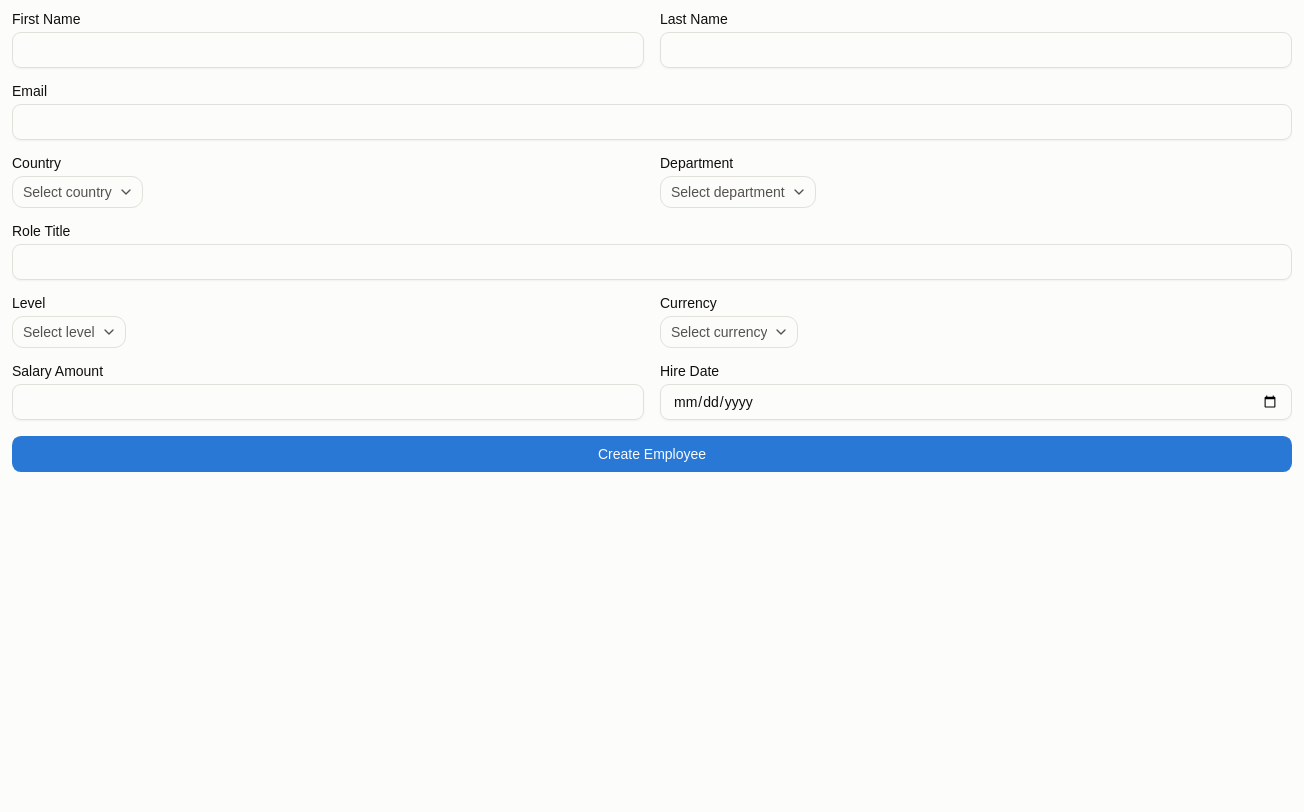
CreateEmployeeForm › shows validation errors and does not submit when required fields are empty
What coordinates should you click on to do the following:
click the button "Create Employee"
I would click on:
 (652, 454)
Its box is [12,436,1292,472].
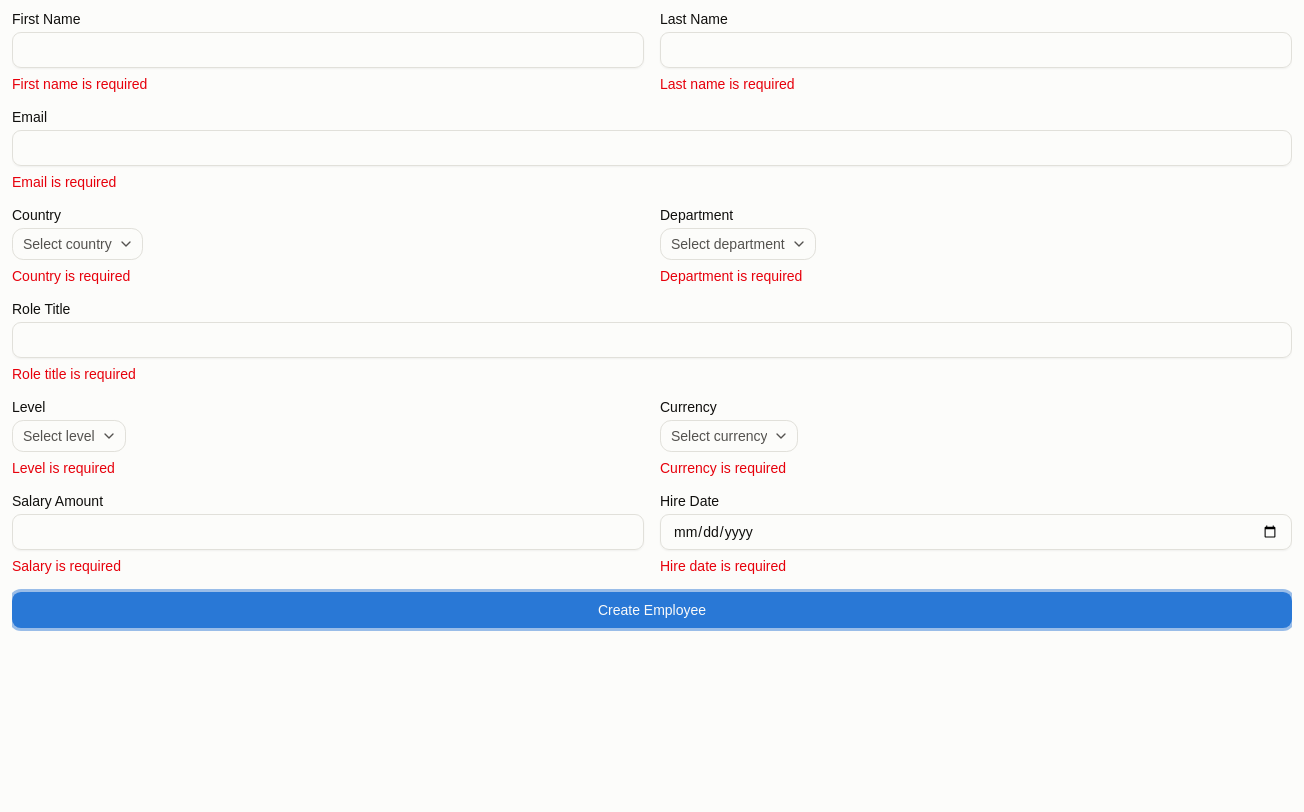
Now the text "First name is required" is shown, box [12,76,147,92]
